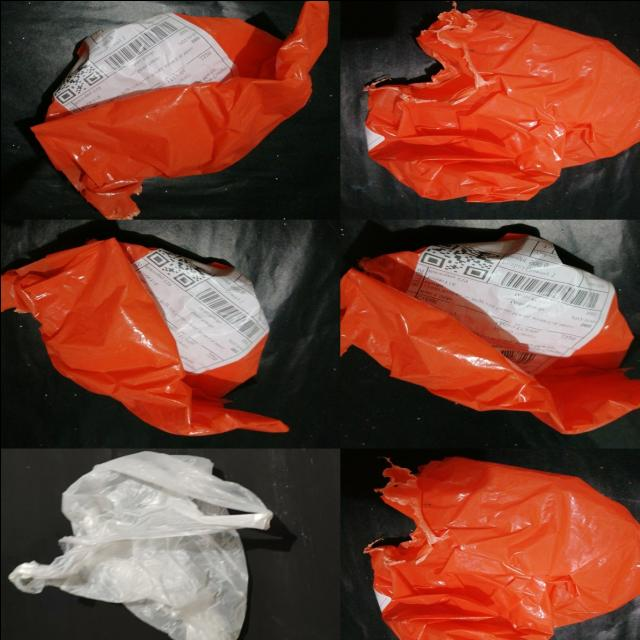plastik: (32, 0, 328, 218), (340, 234, 640, 432), (0, 238, 286, 435), (365, 7, 640, 202), (365, 457, 640, 640), (8, 452, 271, 640)
